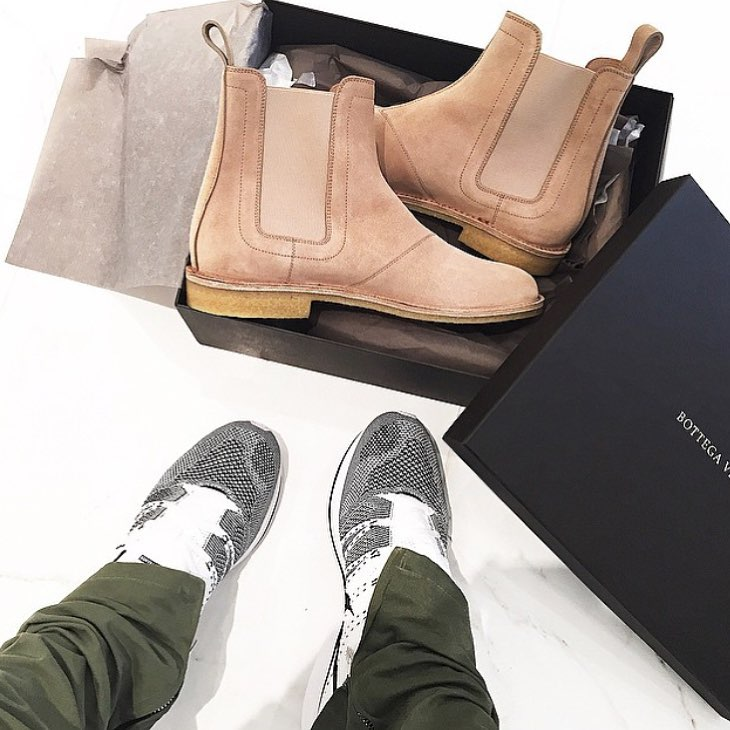sneaker: (299, 396, 479, 730), (104, 411, 293, 722)
